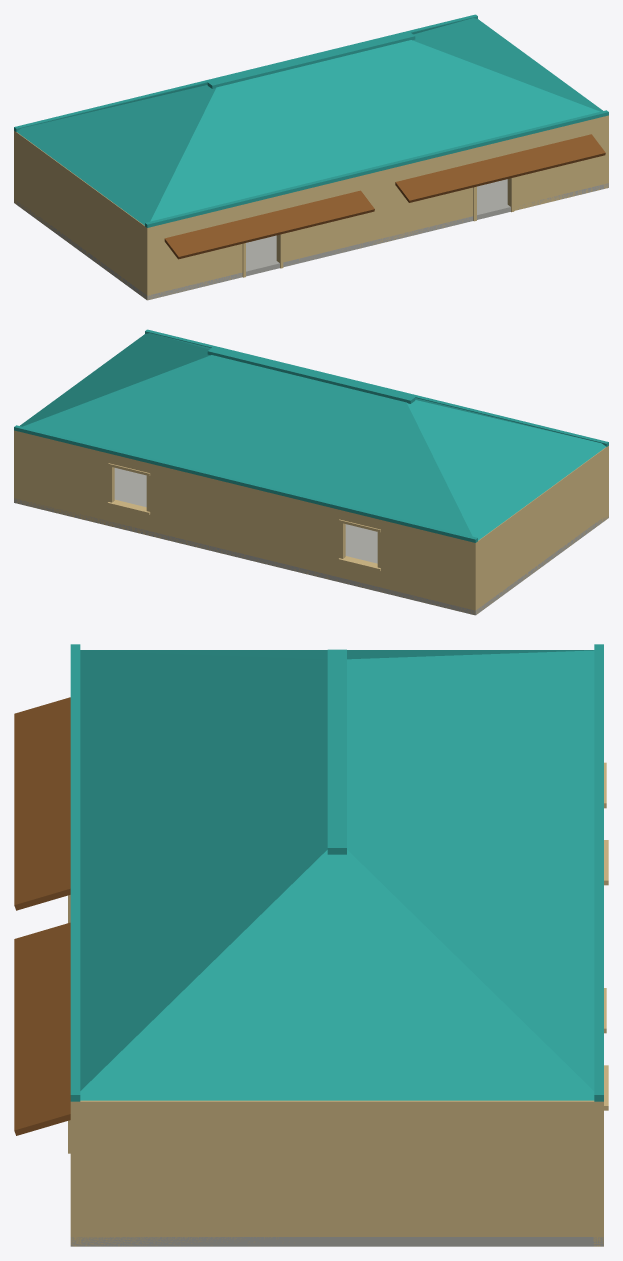
Rendered from shop_row.glb.
3 views of the same model, one above another, from view 1: azimuth 30°, elevation 25°; view 2: azimuth 150°, elevation 25°; view 3: azimuth 270°, elevation 25° (orthographic). The views are drawn at different scales.
Parts seen in each view (by area): view 1: shop_row; view 2: shop_row; view 3: shop_row.
Boxes of the visible parts, box(x1,y1,x2,y2) form: shop_row: box(14, 14, 608, 300); shop_row: box(14, 329, 608, 615); shop_row: box(14, 644, 608, 1246).
Bounding box in the file's own units: 20 × 5.64 × 11.15.
